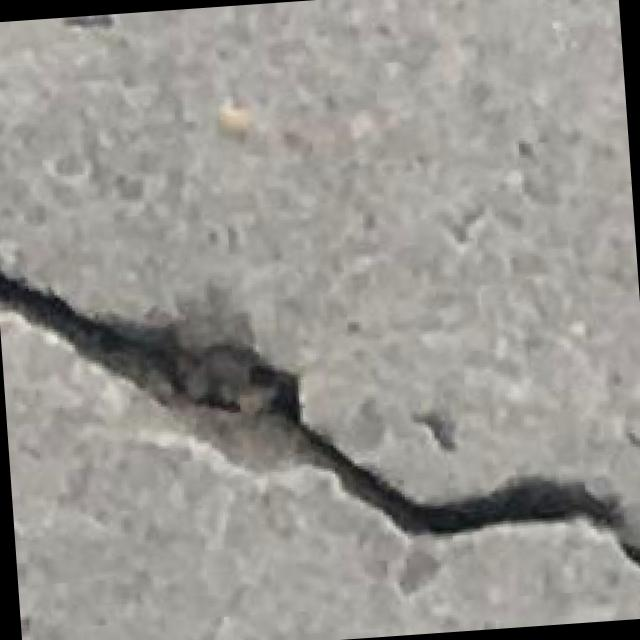Crack: (0, 233, 640, 608)
